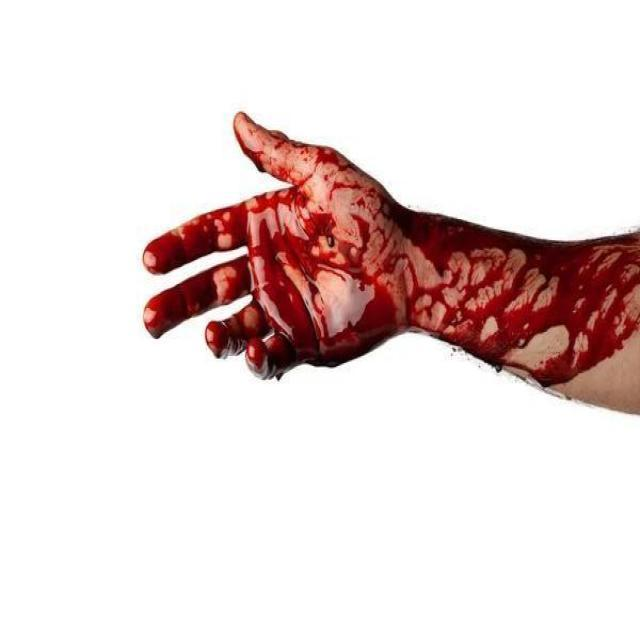flood: (143, 205, 640, 394)
